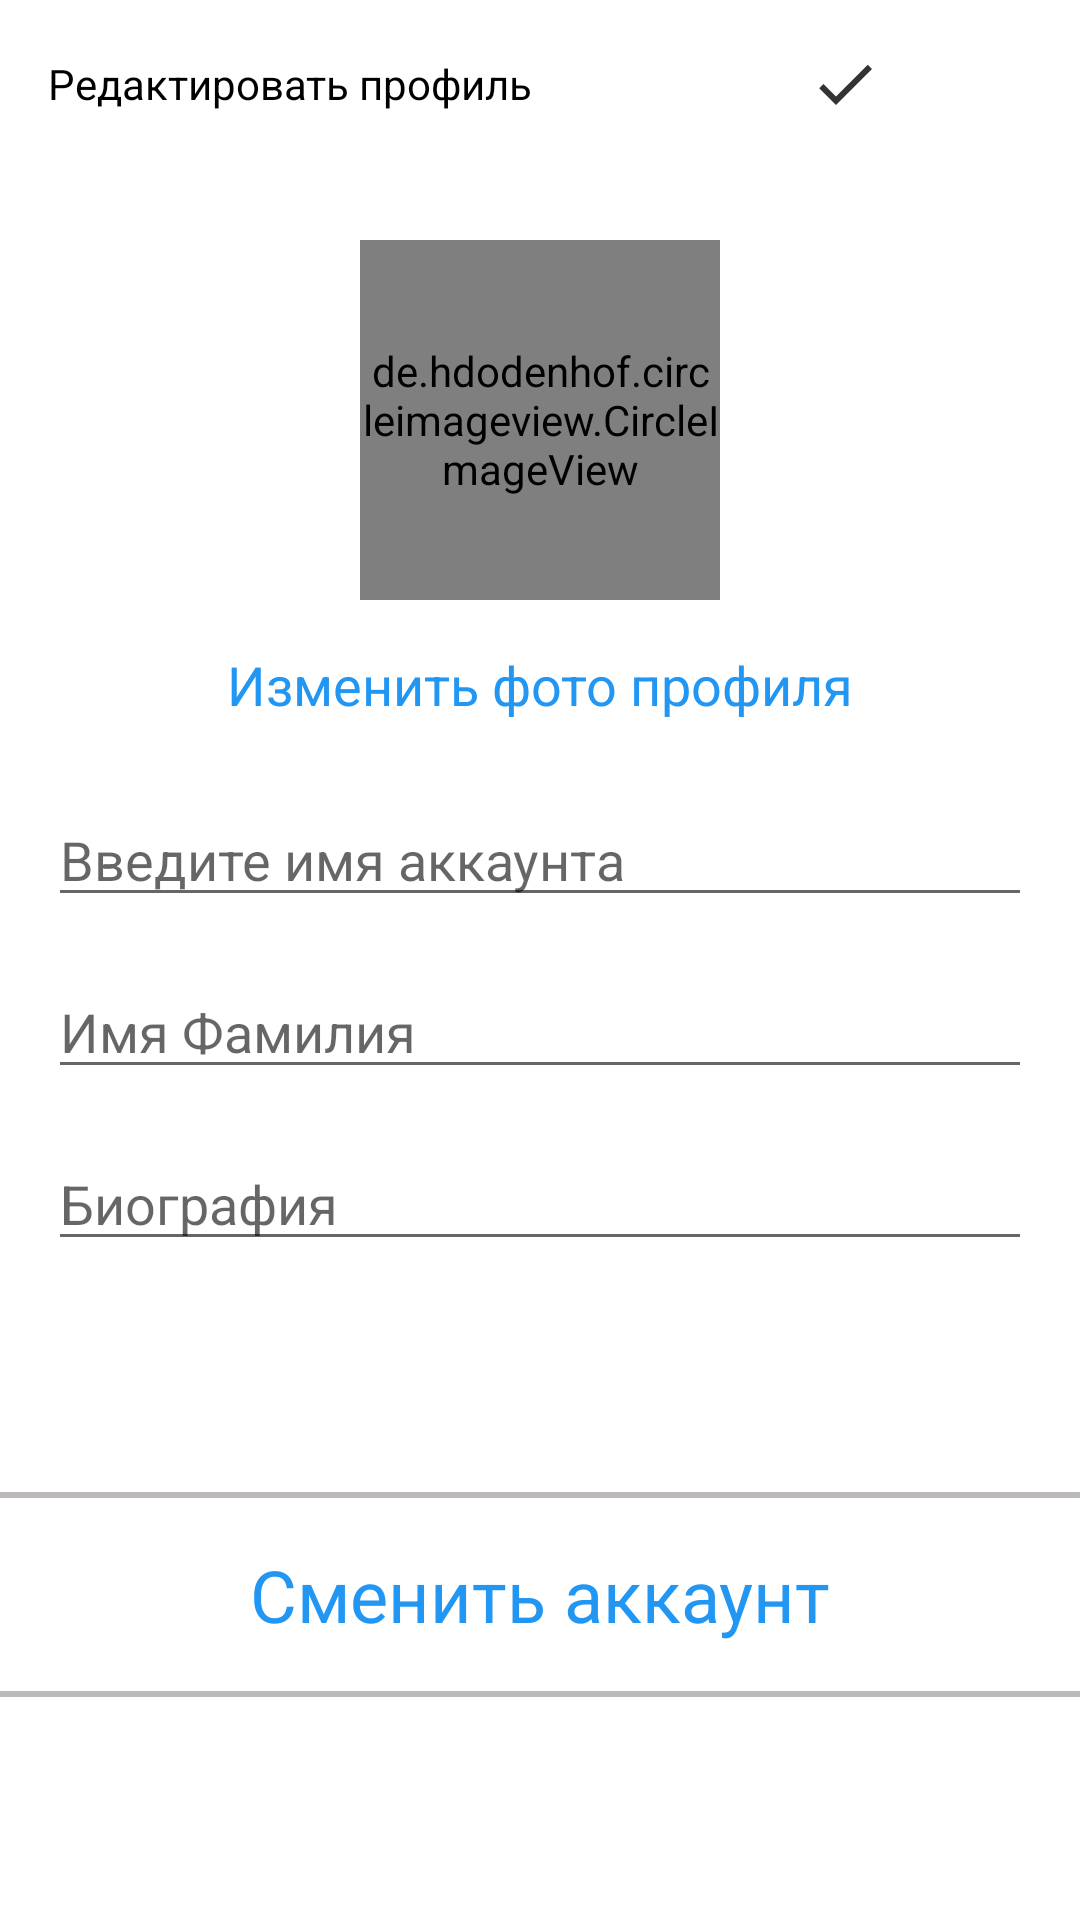

Named icons in this screenshot (1080px×1920px) and their centers, (x,y):
check: (845,85)
